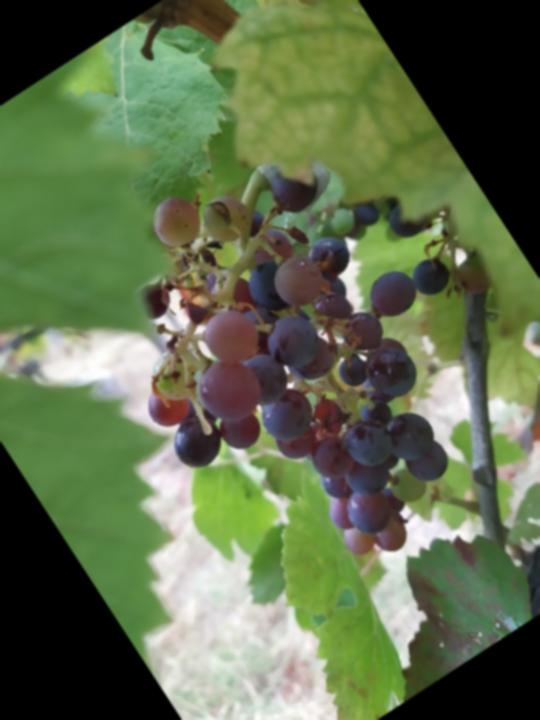grape: (47, 85, 540, 632)
